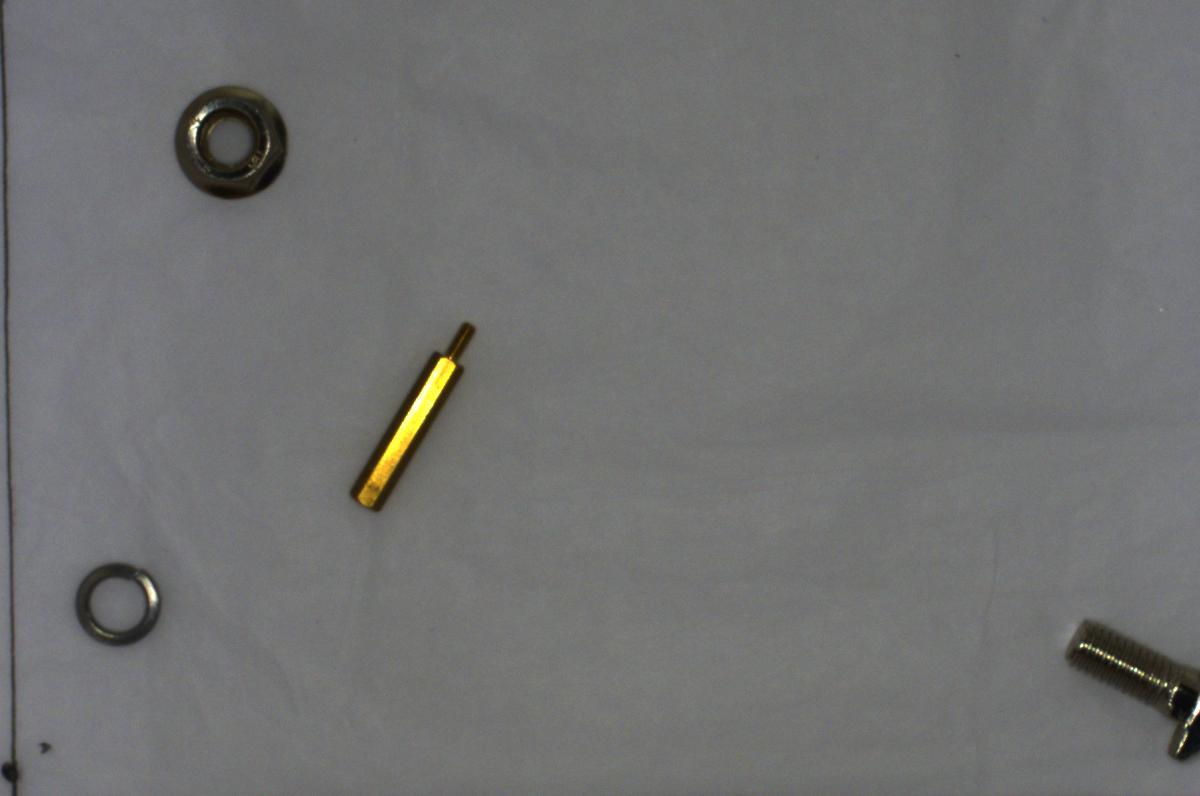Flange nut: (164, 70, 295, 205)
Hexagon pillar: (328, 307, 492, 519)
Spring washer: (67, 555, 172, 648)
T-shaped screw: (1053, 594, 1199, 767)
